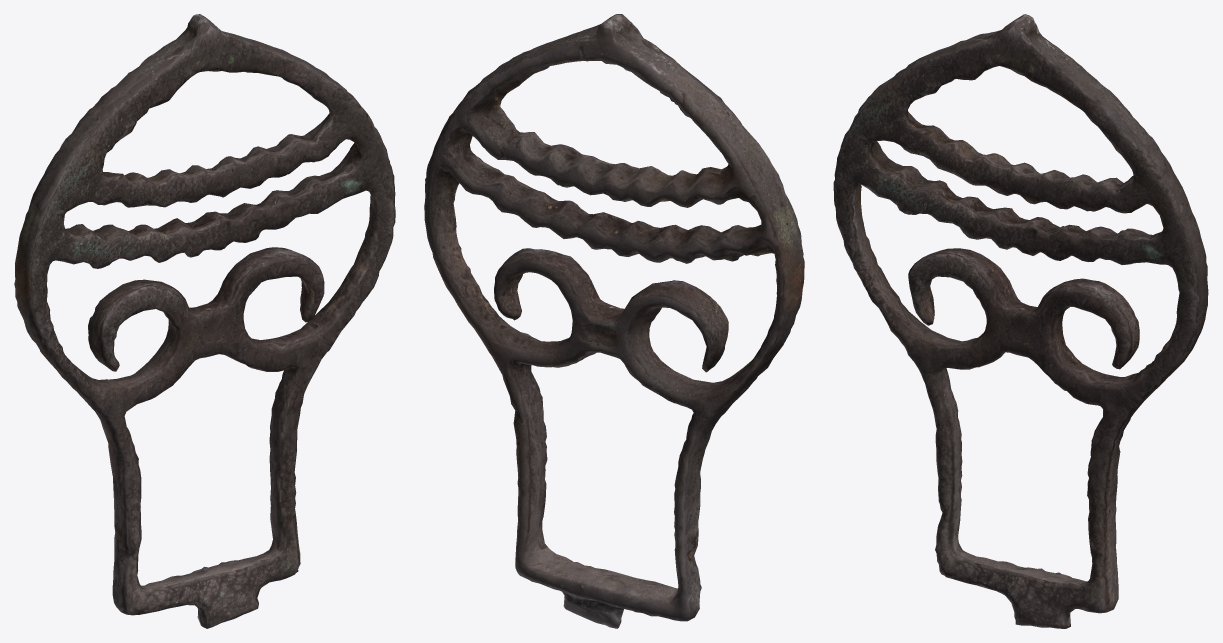
The model's file is buckle1_low_re.glb.
The picture shows the model from 3 angles, left to right: view 1: azimuth 30°, elevation 25°; view 2: azimuth 150°, elevation 25°; view 3: azimuth 330°, elevation 25°; orthographic projection.
Visible parts, largest first — view 1: Model.001; view 2: Model.001; view 3: Model.001.
Boxes of the visible parts, x1=… form: Model.001: x1=14, y1=14, x2=395, y2=628; Model.001: x1=424, y1=14, x2=804, y2=628; Model.001: x1=833, y1=14, x2=1208, y2=628.
Size of the model in its own units: 1.49 by 2.33 by 0.1446.
Materials: 1 (1 with a texture image).
